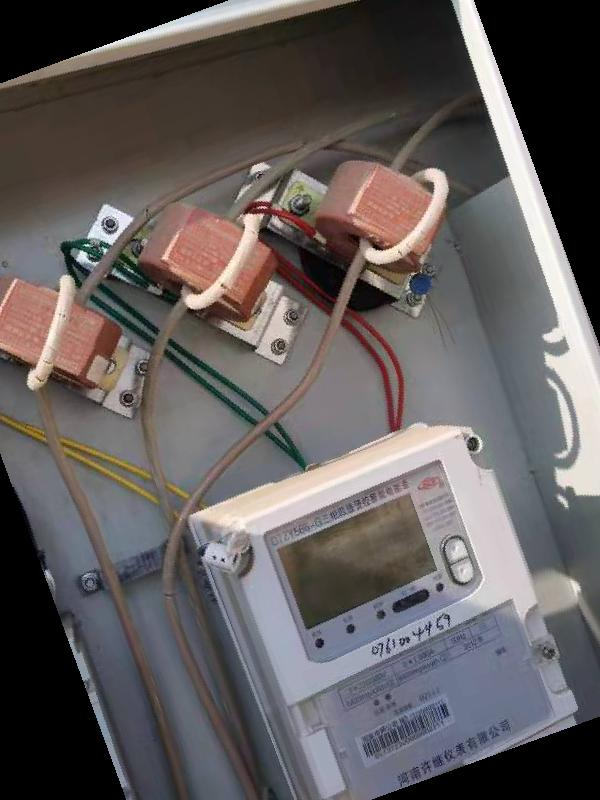digital: (220, 432, 582, 800)
